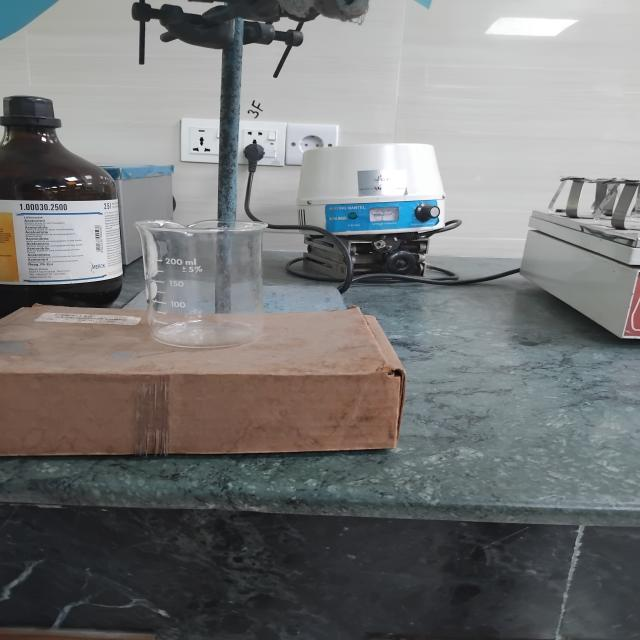Beaker: (86, 206, 287, 358)
